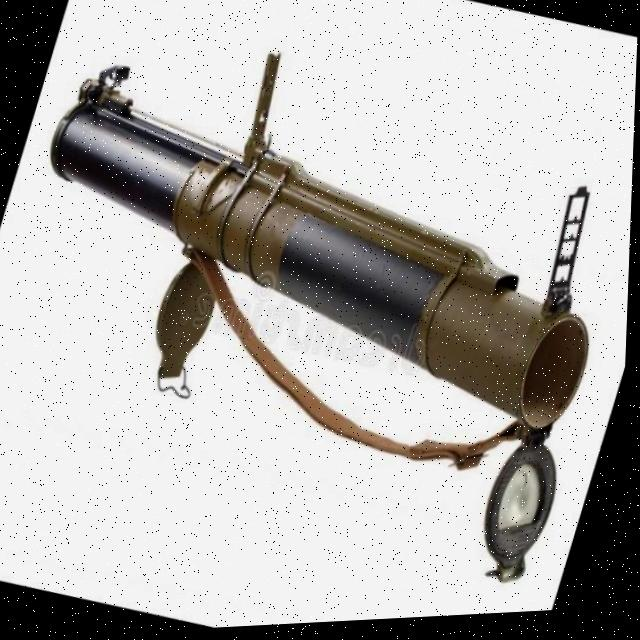rocket: (0, 0, 639, 618)
